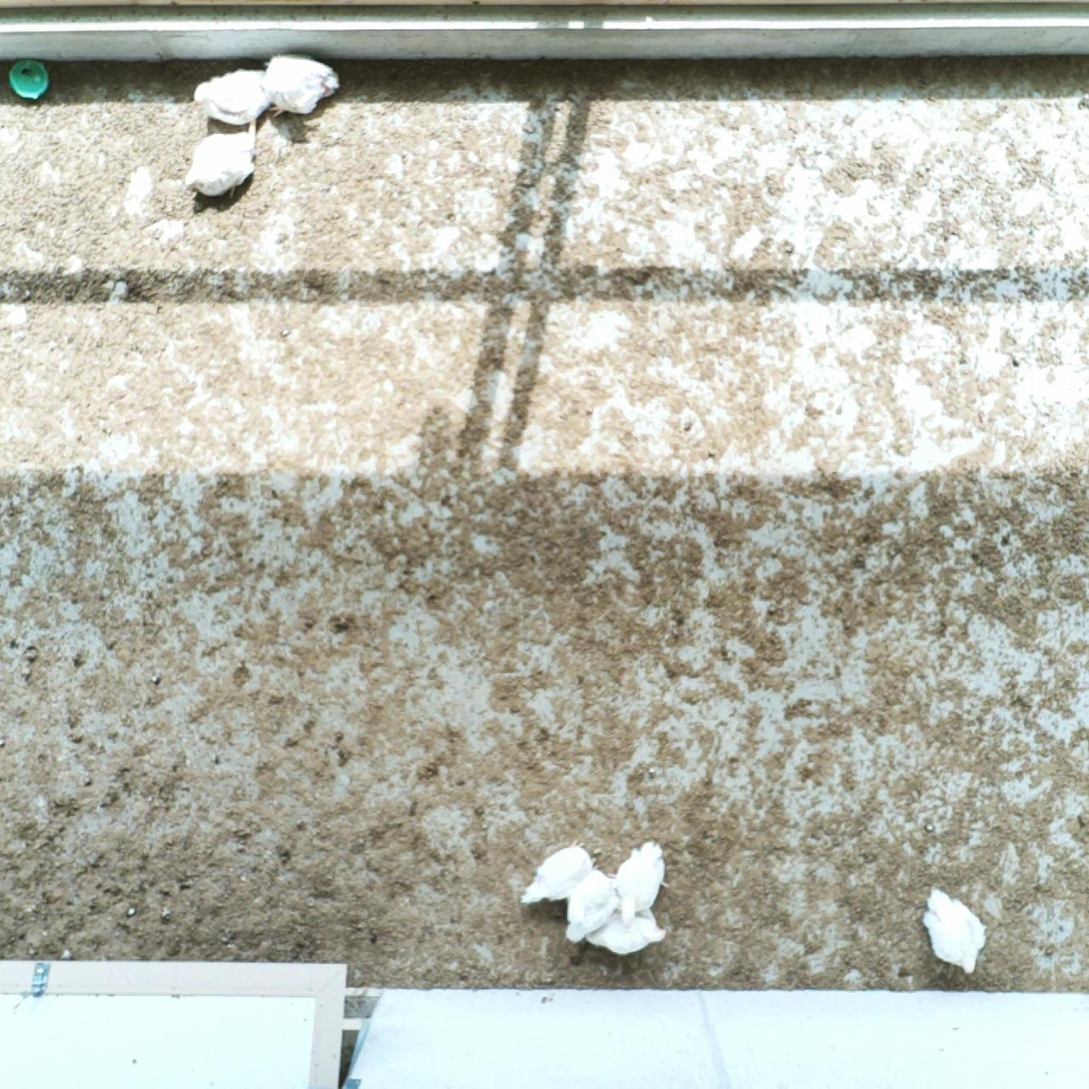chicken: (182, 123, 263, 205), (922, 885, 986, 975), (263, 52, 342, 121), (192, 65, 278, 128), (519, 839, 597, 904), (614, 839, 671, 926), (585, 905, 669, 960), (564, 868, 615, 947)
